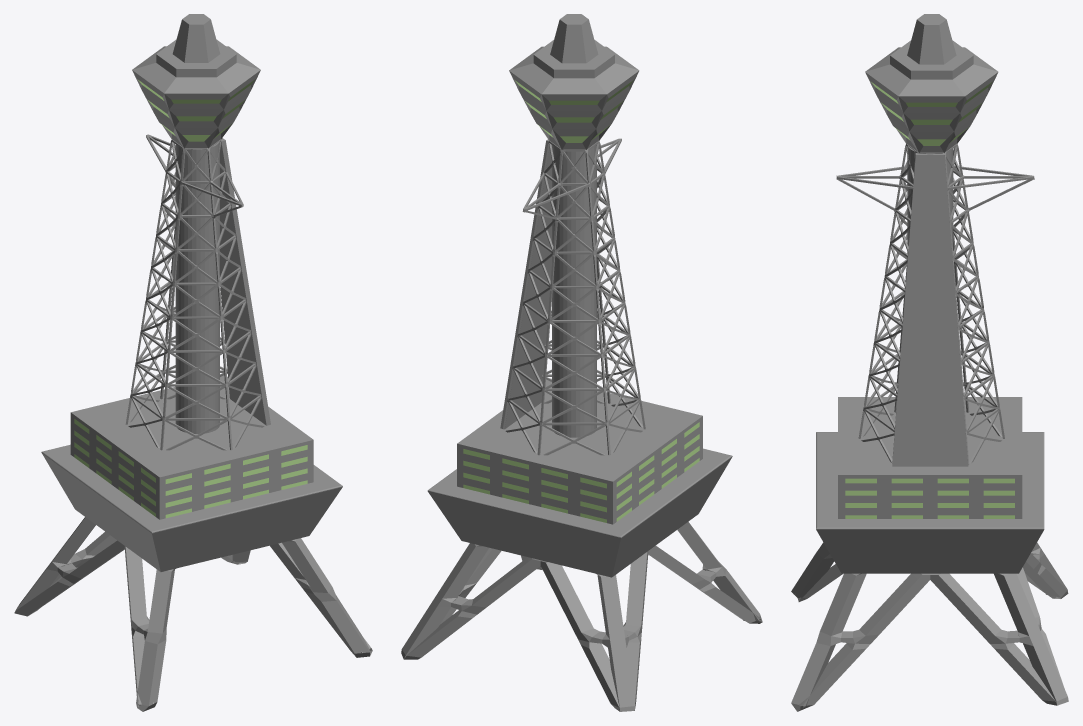
The model's file is tutenkaku.fbx.
3 views of the same model, side by side, from view 1: azimuth 30°, elevation 25°; view 2: azimuth 150°, elevation 25°; view 3: azimuth 270°, elevation 25° (orthographic). The views are drawn at different scales.
Parts seen in each view (by area): view 1: 立方体.032; view 2: 立方体.032; view 3: 立方体.032.
Boxes of the visible parts, <box> form: 立方体.032: <box>14,14,372,711</box>; 立方体.032: <box>401,14,762,711</box>; 立方体.032: <box>791,14,1068,711</box>.
Size of the model in its own units: 566 by 1415 by 559.
